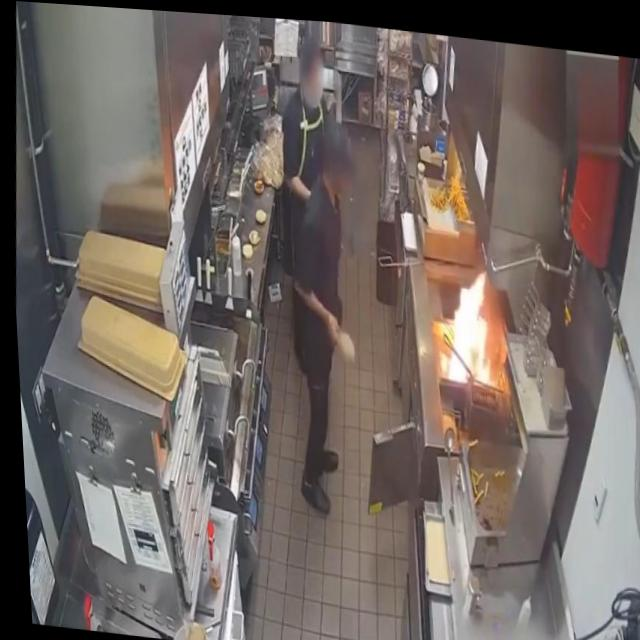fire: (434, 251, 501, 387)
